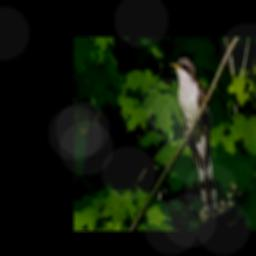Cuckoo: (170, 57, 219, 215)
